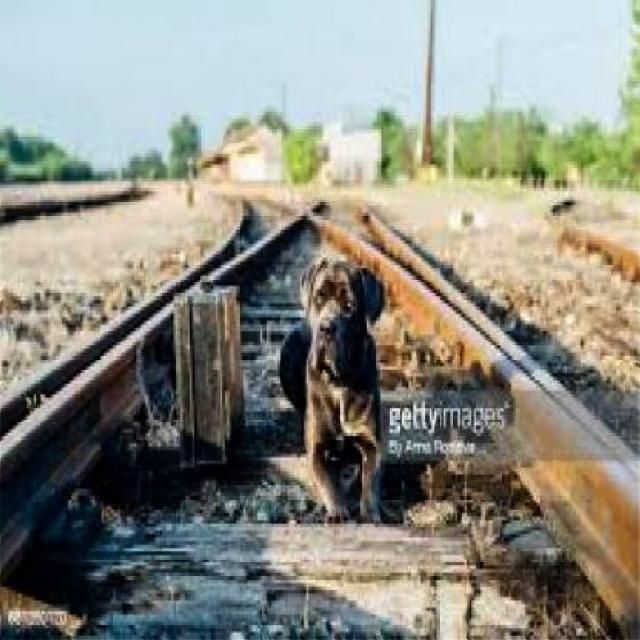rail: (3, 182, 639, 640)
